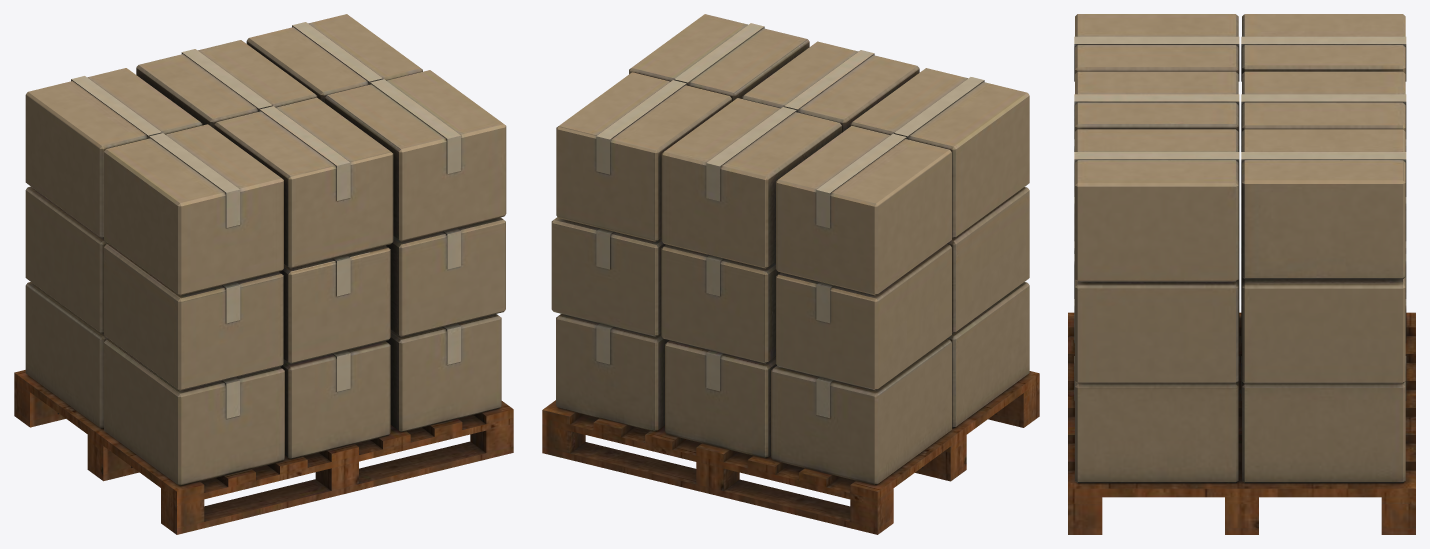
File: pallet_boxes.glb
3 renders of one model, left to right at view 1: azimuth 30°, elevation 25°; view 2: azimuth 150°, elevation 25°; view 3: azimuth 270°, elevation 25°, orthographic. The views are drawn at different scales.
Visible parts, largest first — view 1: pallet_boxes; view 2: pallet_boxes; view 3: pallet_boxes.
Boxes of the visible parts, x1,y1,x2,y2 form: pallet_boxes: (14,14,513,534); pallet_boxes: (542,14,1039,534); pallet_boxes: (1068,14,1415,534).
Bounding box in the file's own units: 1.22 × 1.13 × 1.02.
Materials: 1 (1 with a texture image).
